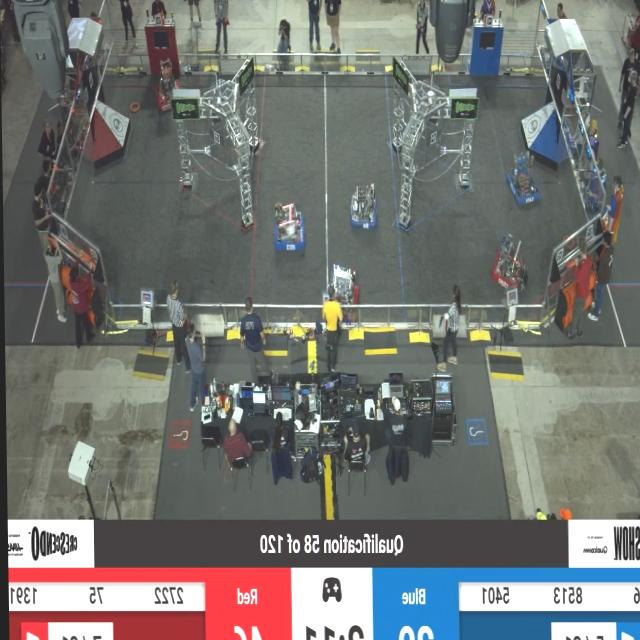Robot: (146, 52, 188, 124), (502, 147, 540, 210), (322, 259, 363, 316), (490, 232, 526, 294), (272, 198, 306, 255), (347, 179, 379, 233)
